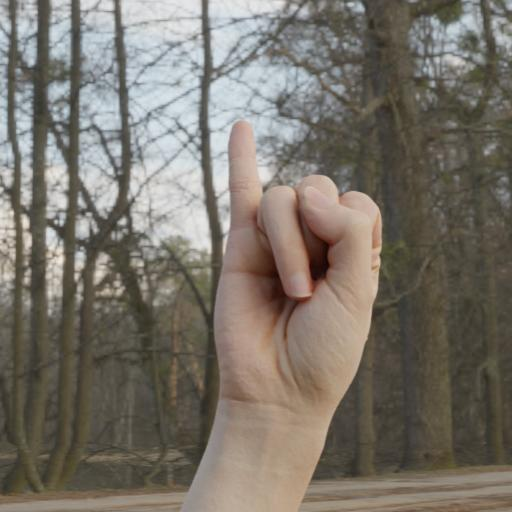I: (210, 104, 416, 426)
